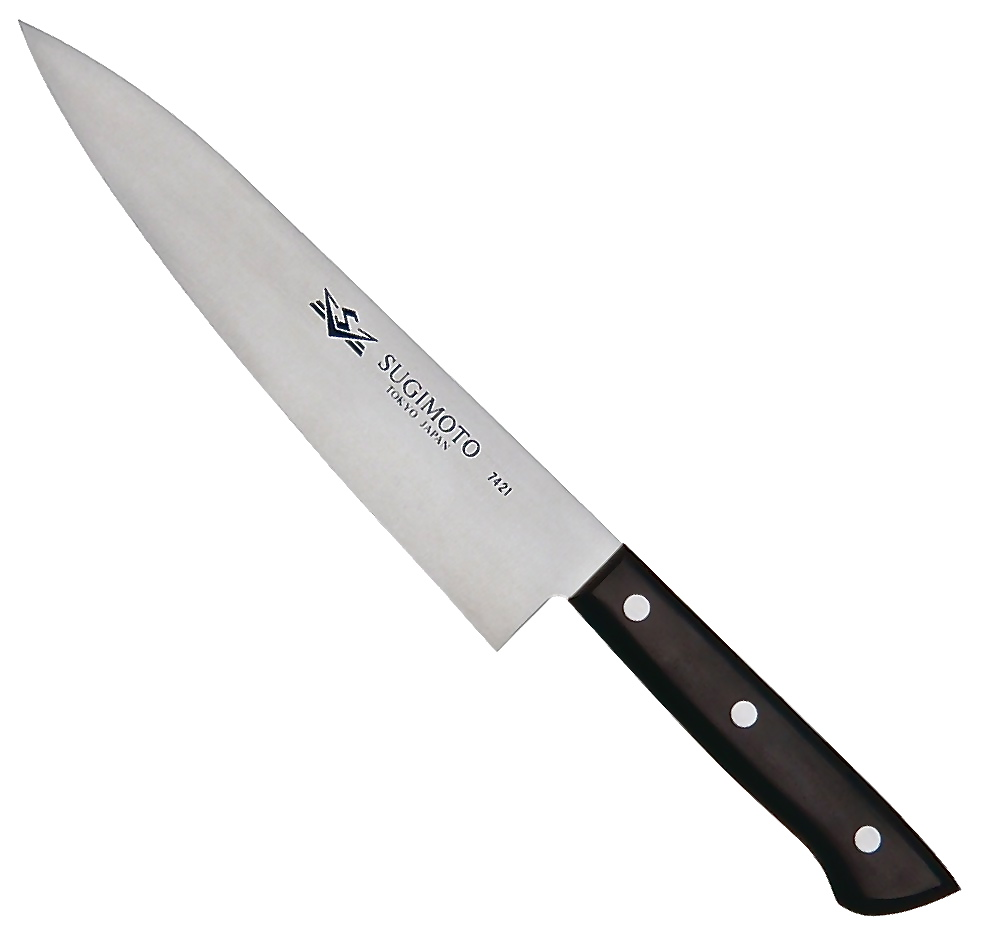knife: (16, 16, 960, 916)
